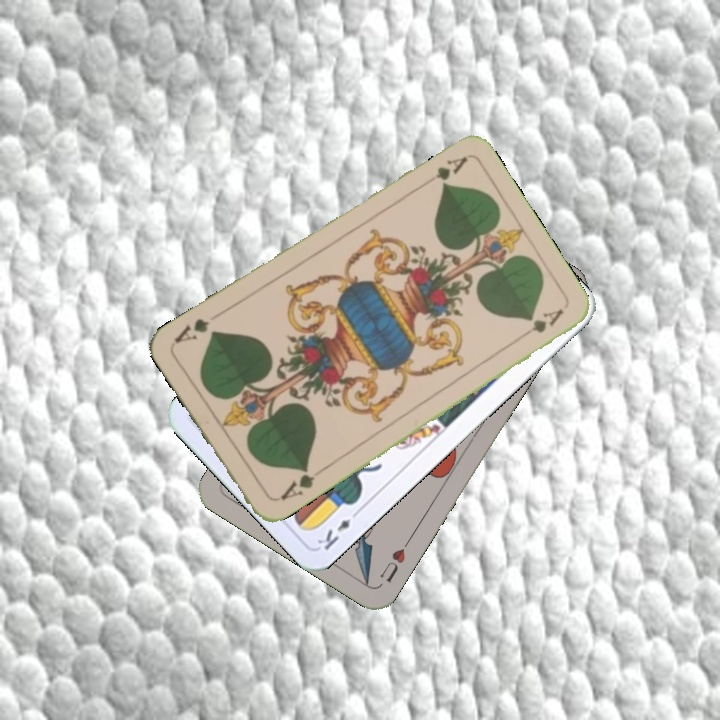EK: (313, 505, 363, 553)
GA: (272, 463, 325, 503), (431, 152, 470, 183)
HU: (375, 535, 413, 586)
